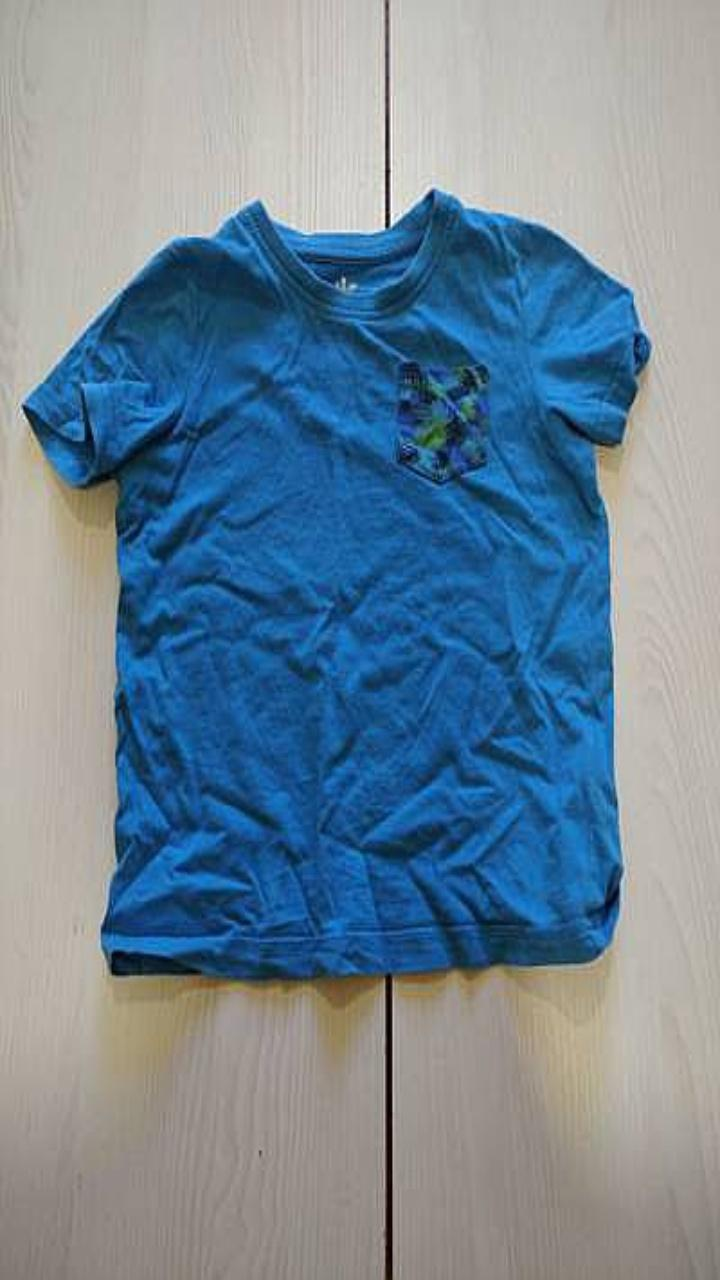T-Shirt: (21, 187, 650, 978)
